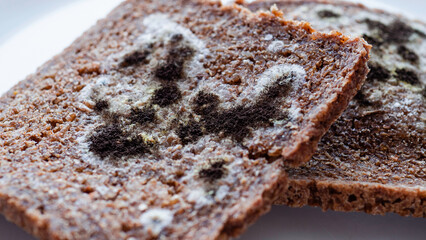mold_bread: (91, 13, 307, 159), (353, 6, 425, 113), (194, 153, 240, 189), (307, 5, 343, 27)
